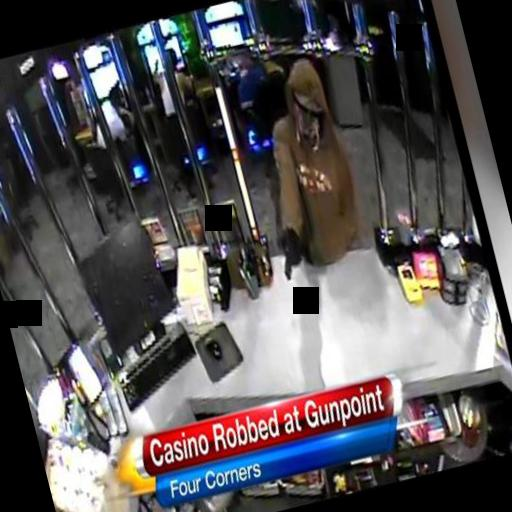Handgun: (262, 226, 318, 294)
